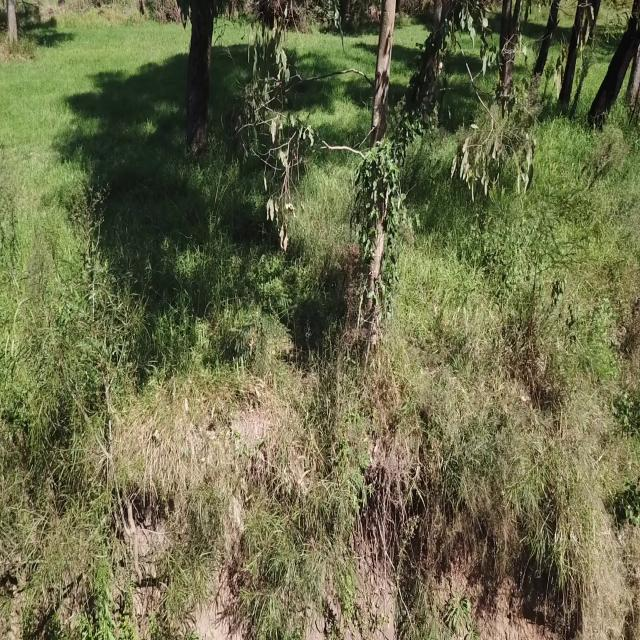Mysore-Thorn-Weed: (234, 252, 292, 359)
